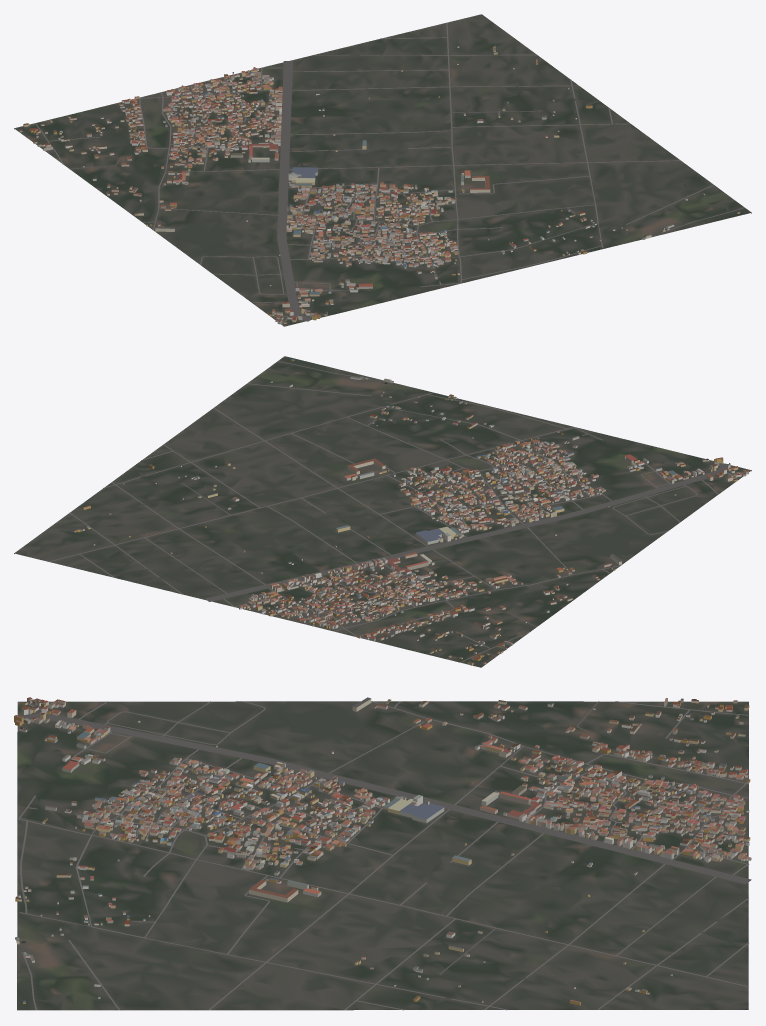
3 views of the same model, one above another, from view 1: azimuth 30°, elevation 25°; view 2: azimuth 150°, elevation 25°; view 3: azimuth 270°, elevation 25° (orthographic). The views are drawn at different scales.
Visible parts, largest first — view 1: ground, buildings, roads; view 2: ground, buildings, roads; view 3: ground, buildings, roads.
Part boxes in pixels (box(x1,y1,x2,y2)): ground: box(14, 14, 751, 326); buildings: box(19, 45, 740, 324); roads: box(35, 22, 744, 324); ground: box(14, 356, 751, 667); buildings: box(73, 359, 748, 665); roads: box(49, 361, 738, 662); ground: box(17, 701, 748, 1010); buildings: box(14, 697, 751, 1005); roads: box(17, 701, 751, 1010).
Bounding box in the file's own units: 1407 × 20.7 × 1414.
